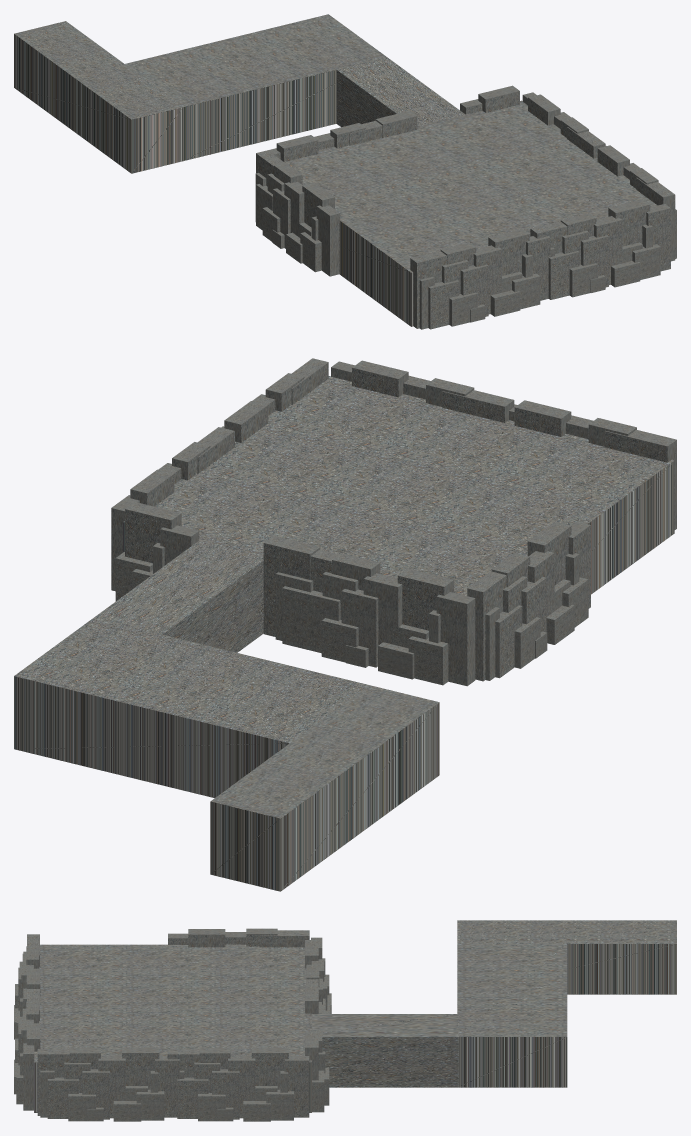
Rendered from stage1_1_2.FBX.
The picture shows the model from 3 angles, top to bottom: view 1: azimuth 30°, elevation 25°; view 2: azimuth 150°, elevation 25°; view 3: azimuth 270°, elevation 25°; orthographic projection. The views are drawn at different scales.
Parts seen in each view (by area): view 1: Box2593, Box3217, Box3216, Box3218, Box474, Box3279, Box3266, Box3281, Box3284, Box3269, Box3267, Box3282 (+28 smaller); view 2: Box2593, Box3217, Box3216, Box3218, Box3297, Box3311, Box3323, Box3296, Box471, Box3303, Box3279, Box3299 (+27 smaller); view 3: Box2593, Box3217, Box3216, Box3218, Box3237, Box3236, Box3251, Box3252, Box3254, Box3239, Box3238, Box3243 (+25 smaller).
Part boxes in pixels (x1,y1,x2,y2): Box2593: (284,100,657,326); Box3217: (124,14,386,160); Box3216: (14,21,183,173); Box3218: (336,57,464,127); Box474: (316,205,340,276); Box3279: (410,250,446,328); Box3266: (608,199,650,246); Box3281: (488,228,529,275); Box3284: (428,280,459,329); Box3269: (548,251,579,299); Box3267: (646,204,670,271); Box3282: (526,236,550,300); Box2593: (123,376,674,595); Box3217: (14,618,368,797); Box3216: (210,685,439,891); Box3218: (93,540,263,652); Box3297: (436,592,475,686); Box3311: (263,536,320,636); Box3323: (125,502,181,563); Box3296: (397,568,454,630); Box471: (467,570,506,681); Box3303: (341,589,378,667); Box3279: (605,430,676,529); Box3299: (299,590,340,653); Box2593: (34,944,311,1112); Box3217: (457,944,567,1087); Box3216: (457,920,676,994); Box3218: (312,1014,458,1087); Box3237: (284,1056,309,1117); Box3236: (251,1047,288,1089); Box3251: (122,1047,159,1089); Box3252: (155,1056,179,1117); Box3254: (47,1077,78,1118); Box3239: (177,1077,208,1118); Box3238: (228,1055,255,1118); Box3243: (212,1069,239,1119).
Bounding box in the file's own units: 1017 × 1890 × 199.
